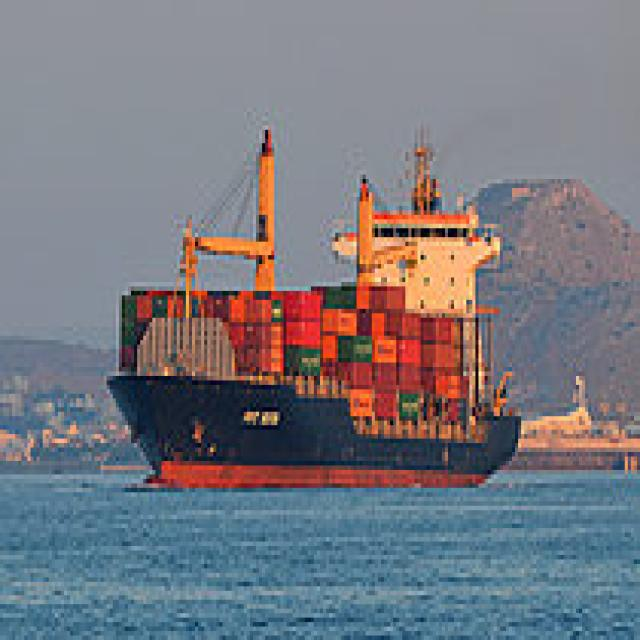Cargo: (98, 112, 521, 488)
